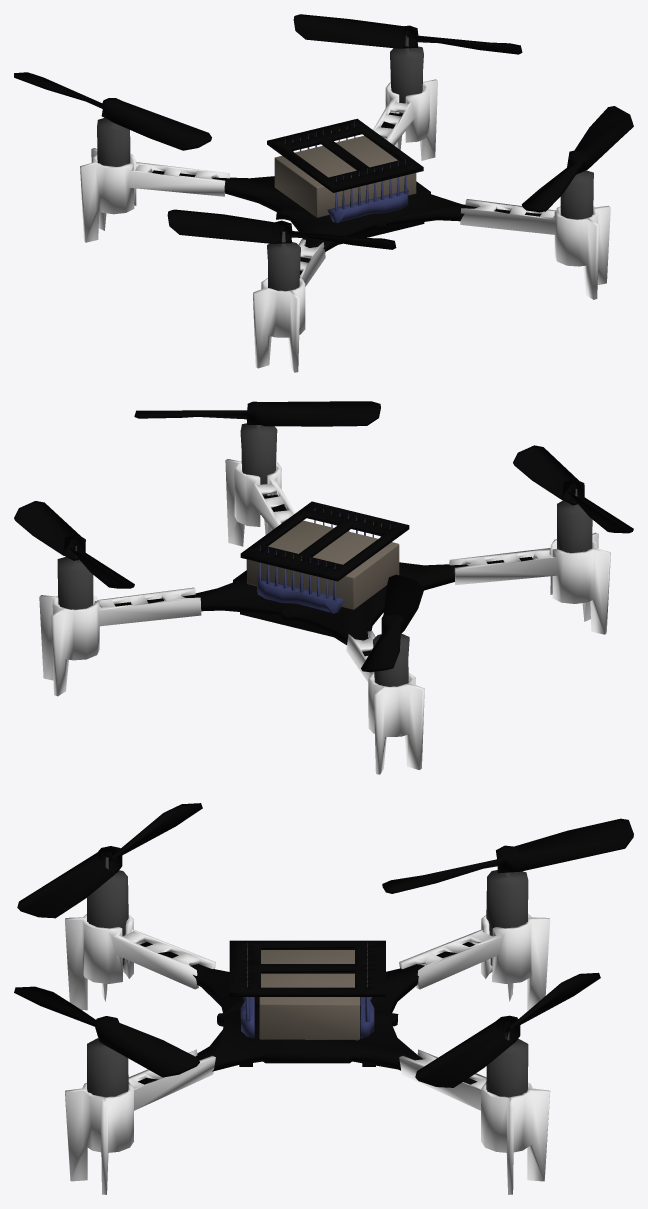
Rendered from crazyflie_drone.fbx.
The picture shows the model from 3 angles, top to bottom: view 1: azimuth 30°, elevation 25°; view 2: azimuth 150°, elevation 25°; view 3: azimuth 270°, elevation 25°; orthographic projection. The views are drawn at different scales.
Visible parts, largest first — view 1: 7mm motor mount Default sldprt_0, pcb Default sldprt_9, 7x15 motor Default sldprt_1, battery bc-bl-01-a Default sldprt_2, battery holder board Default sldprt_3, propeller ccw Default sldprt.002_6, propeller ccw Default sldprt.003_7, propeller ccw Default sldprt.004_8, propeller ccw Default sldprt.001_5, header Default sldprt_4; view 2: 7mm motor mount Default sldprt_0, pcb Default sldprt_9, 7x15 motor Default sldprt_1, battery bc-bl-01-a Default sldprt_2, battery holder board Default sldprt_3, propeller ccw Default sldprt.001_5, propeller ccw Default sldprt.002_6, propeller ccw Default sldprt.003_7, propeller ccw Default sldprt.004_8, header Default sldprt_4; view 3: 7mm motor mount Default sldprt_0, pcb Default sldprt_9, 7x15 motor Default sldprt_1, battery bc-bl-01-a Default sldprt_2, battery holder board Default sldprt_3, propeller ccw Default sldprt.004_8, propeller ccw Default sldprt.002_6, propeller ccw Default sldprt.003_7, propeller ccw Default sldprt.001_5, header Default sldprt_4.
Part boxes in pixels (bbox=[...]): 7mm motor mount Default sldprt_0: bbox=[80, 79, 610, 372]; pcb Default sldprt_9: bbox=[152, 112, 541, 274]; 7x15 motor Default sldprt_1: bbox=[97, 35, 593, 291]; battery bc-bl-01-a Default sldprt_2: bbox=[274, 135, 416, 217]; battery holder board Default sldprt_3: bbox=[267, 118, 423, 192]; propeller ccw Default sldprt.002_6: bbox=[293, 14, 522, 54]; propeller ccw Default sldprt.003_7: bbox=[167, 209, 396, 249]; propeller ccw Default sldprt.004_8: bbox=[14, 72, 211, 150]; propeller ccw Default sldprt.001_5: bbox=[521, 106, 633, 212]; header Default sldprt_4: bbox=[285, 121, 408, 223]; 7mm motor mount Default sldprt_0: bbox=[39, 459, 610, 774]; pcb Default sldprt_9: bbox=[114, 494, 533, 656]; 7x15 motor Default sldprt_1: bbox=[57, 423, 592, 686]; battery bc-bl-01-a Default sldprt_2: bbox=[246, 520, 399, 609]; battery holder board Default sldprt_3: bbox=[240, 501, 409, 581]; propeller ccw Default sldprt.001_5: bbox=[134, 401, 380, 426]; propeller ccw Default sldprt.002_6: bbox=[14, 501, 134, 588]; propeller ccw Default sldprt.003_7: bbox=[513, 445, 633, 533]; propeller ccw Default sldprt.004_8: bbox=[361, 574, 424, 672]; header Default sldprt_4: bbox=[257, 507, 390, 613]; 7mm motor mount Default sldprt_0: bbox=[65, 914, 550, 1194]; pcb Default sldprt_9: bbox=[138, 942, 477, 1084]; 7x15 motor Default sldprt_1: bbox=[87, 857, 528, 1097]; battery bc-bl-01-a Default sldprt_2: bbox=[259, 950, 360, 1040]; battery holder board Default sldprt_3: bbox=[229, 940, 385, 996]; propeller ccw Default sldprt.004_8: bbox=[382, 818, 633, 893]; propeller ccw Default sldprt.002_6: bbox=[415, 972, 600, 1087]; propeller ccw Default sldprt.003_7: bbox=[17, 803, 202, 918]; propeller ccw Default sldprt.001_5: bbox=[14, 986, 199, 1077]; header Default sldprt_4: bbox=[240, 942, 374, 1038].
Size of the model in its own units: 15.1 by 4.37 by 14.94.
